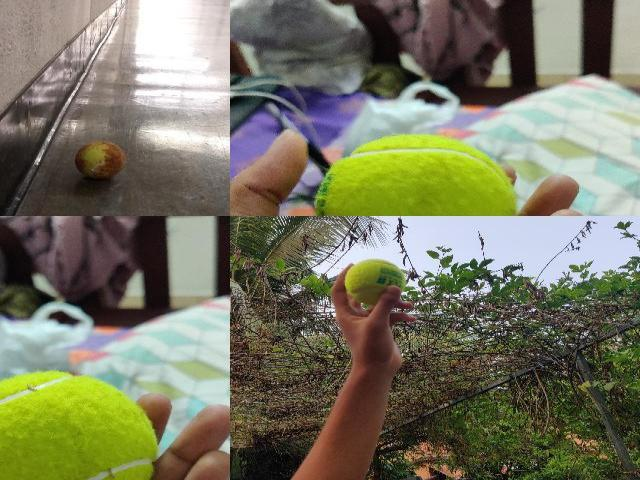tennis-ball: (0, 368, 159, 480), (313, 133, 518, 216), (344, 259, 406, 305), (74, 140, 126, 180)
